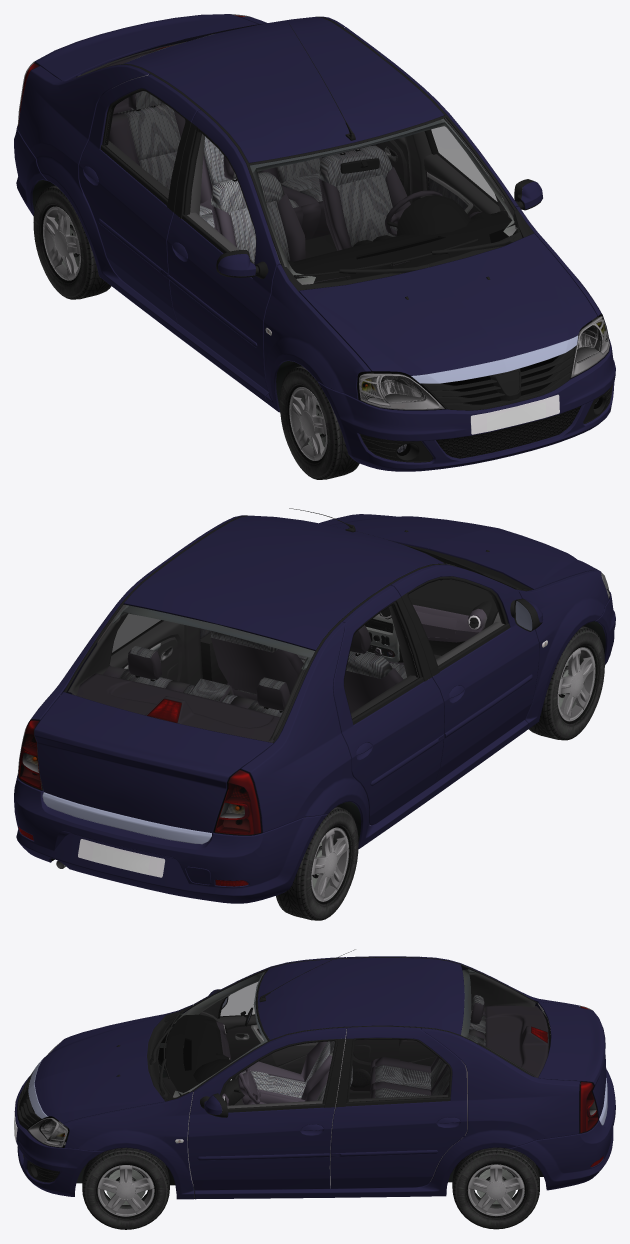
File: logan.glb
3 renders of one model, top to bottom at view 1: azimuth 30°, elevation 25°; view 2: azimuth 150°, elevation 25°; view 3: azimuth 270°, elevation 25°, orthographic. The views are drawn at different scales.
Parts seen in each view (by area): view 1: dacia_logan_0; view 2: dacia_logan_0; view 3: dacia_logan_0.
Boxes of the visible parts, bbox=[...] form: dacia_logan_0: bbox=[14, 14, 615, 479]; dacia_logan_0: bbox=[14, 508, 615, 920]; dacia_logan_0: bbox=[14, 949, 615, 1229].
Size of what is drawn, in the model's own units: 1.99 by 1.83 by 4.3.
Materials: 8 (6 with a texture image).
